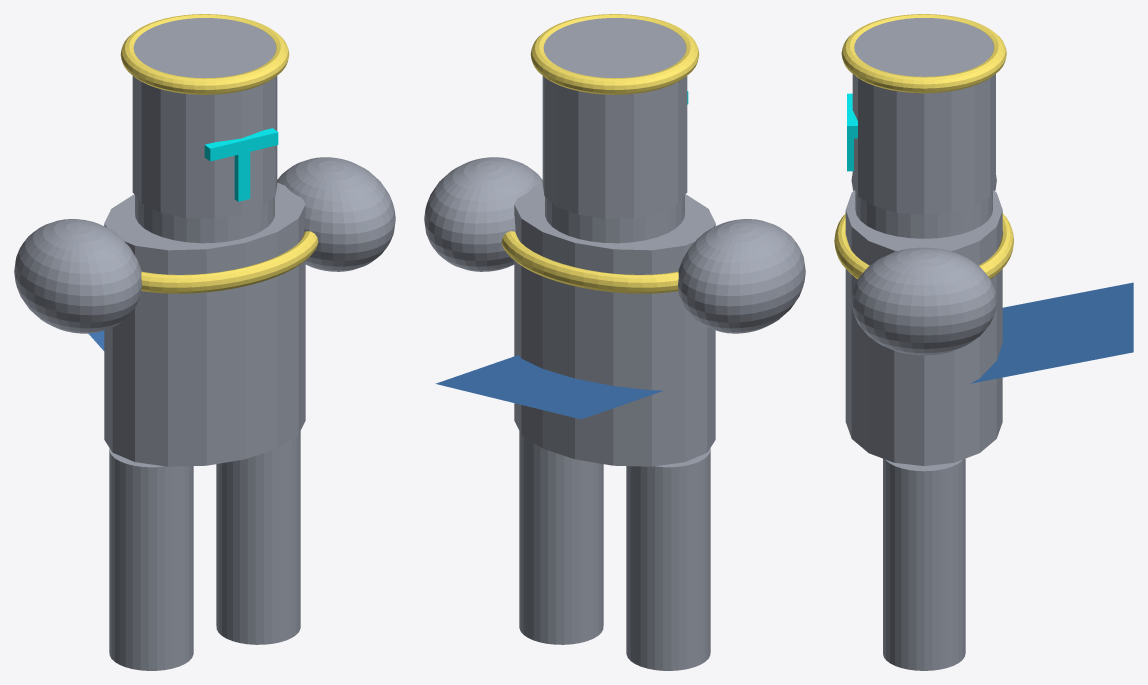
Rendered from player.glb.
3 renders of one model, left to right at view 1: azimuth 30°, elevation 25°; view 2: azimuth 150°, elevation 25°; view 3: azimuth 270°, elevation 25°, orthographic.
Parts seen in each view (by area): view 1: Cylinder, Cylinder.002, Cylinder.003, Cylinder.004, Sphere, Sphere.001, Torus.001, Torus, Cylinder.001, Cube, Cube.001; view 2: Cylinder, Cylinder.002, Cylinder.003, Cylinder.004, Sphere, Sphere.001, Plane, Torus.001, Torus, Cylinder.001; view 3: Cylinder.002, Cylinder, Cylinder.004, Sphere.001, Plane, Torus.001, Cylinder.001, Torus.
Boxes of the visible parts, x1,y1,x2,y2 form: Cylinder: [104, 182, 305, 466]; Cylinder.002: [132, 18, 277, 218]; Cylinder.003: [109, 448, 193, 670]; Cylinder.004: [216, 431, 300, 644]; Sphere: [14, 219, 141, 333]; Sphere.001: [277, 157, 395, 271]; Torus.001: [120, 14, 289, 94]; Torus: [141, 231, 318, 293]; Cylinder.001: [135, 195, 274, 243]; Cube: [204, 128, 278, 161]; Cube.001: [234, 144, 250, 201]; Cylinder: [514, 182, 715, 466]; Cylinder.002: [542, 18, 687, 218]; Cylinder.003: [626, 448, 710, 670]; Cylinder.004: [519, 431, 603, 644]; Sphere: [678, 219, 805, 333]; Sphere.001: [424, 157, 542, 271]; Plane: [435, 355, 663, 419]; Torus.001: [530, 14, 699, 94]; Torus: [501, 231, 678, 293]; Cylinder.001: [545, 195, 684, 243]; Cylinder.002: [852, 18, 995, 214]; Cylinder: [845, 190, 1002, 465]; Cylinder.004: [883, 458, 965, 670]; Sphere.001: [851, 247, 996, 355]; Plane: [970, 282, 1133, 383]; Torus.001: [841, 14, 1006, 93]; Cylinder.001: [855, 191, 992, 238]; Torus: [834, 213, 1013, 279].
Bounding box in the file's own units: 1.47 × 2.33 × 1.09.
